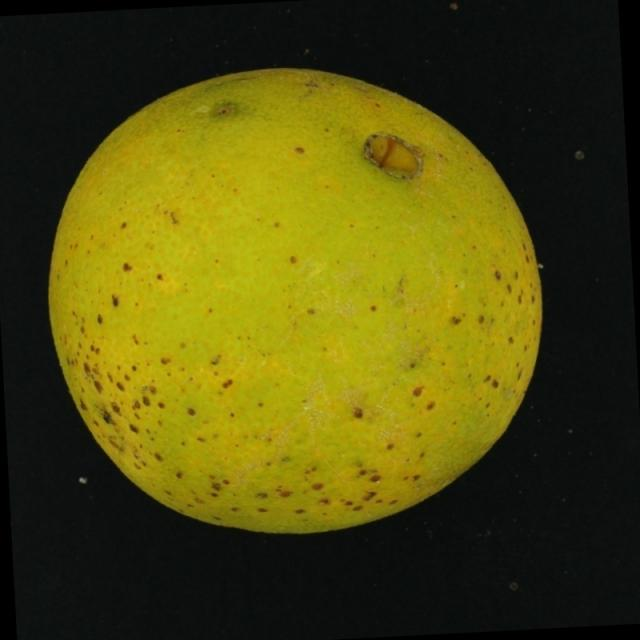grenning: (42, 56, 565, 556)
